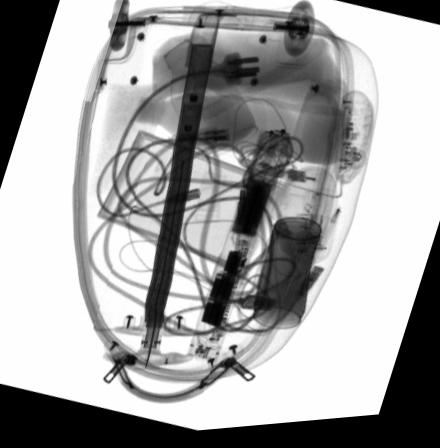Baton: (188, 134, 293, 368)
